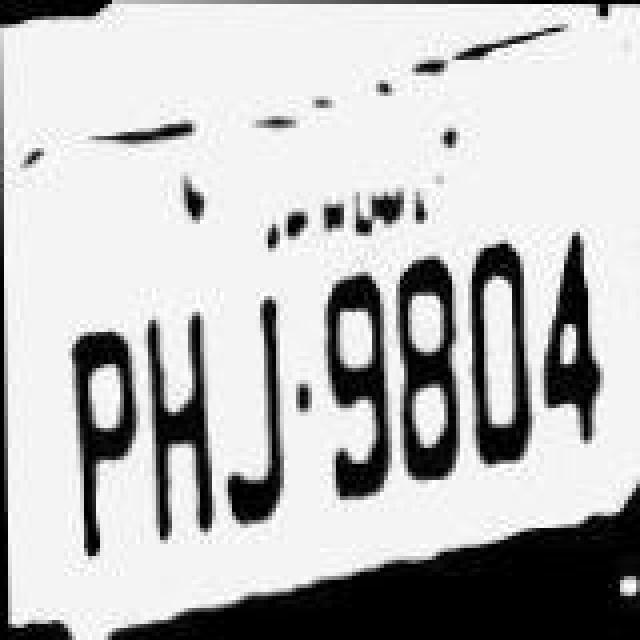4: (532, 208, 612, 472)
8: (386, 242, 462, 514)
9: (318, 246, 394, 526)
H: (140, 282, 220, 554)
J: (214, 274, 290, 538)
O: (462, 218, 538, 490)
P: (58, 290, 142, 558)
